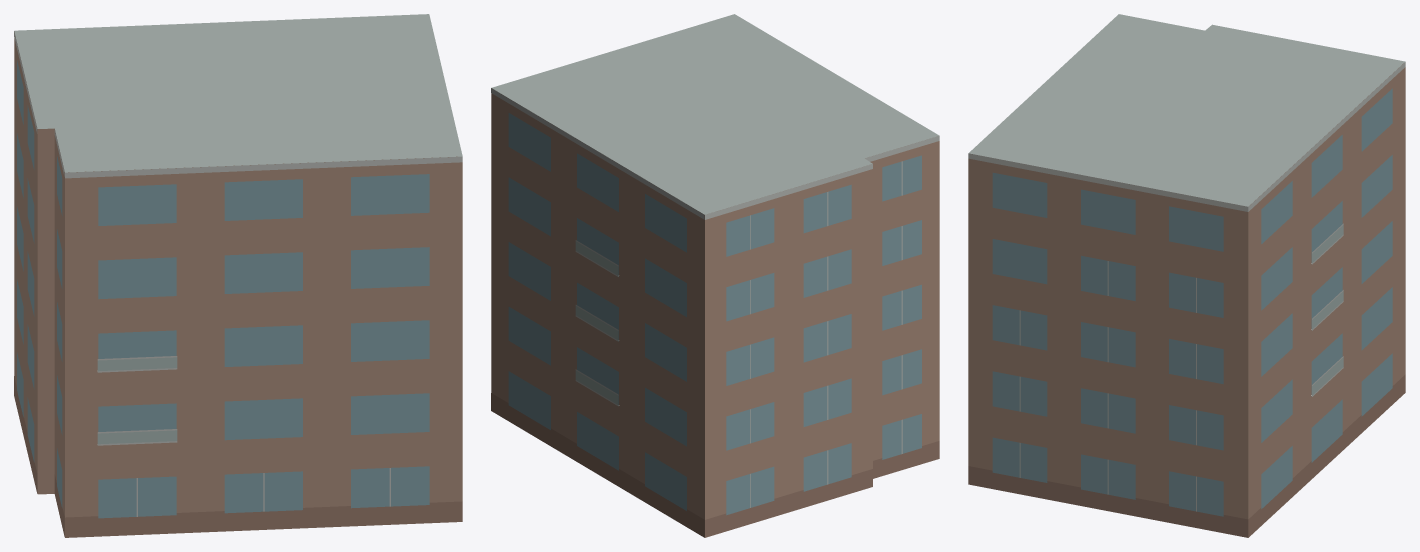
Rendered from survey-upis-33008840.glb.
3 renders of one model, left to right at view 1: azimuth 30°, elevation 25°; view 2: azimuth 150°, elevation 25°; view 3: azimuth 270°, elevation 25°, orthographic. The views are drawn at different scales.
Visible parts, largest first — view 1: survey-upis-33008840.tmp; view 2: survey-upis-33008840.tmp; view 3: survey-upis-33008840.tmp.
Boxes of the visible parts, x1,y1,x2,y2 form: survey-upis-33008840.tmp: [14, 14, 462, 537]; survey-upis-33008840.tmp: [491, 14, 939, 537]; survey-upis-33008840.tmp: [968, 14, 1405, 537].
Bounding box in the file's own units: 19.05 × 15.25 × 18.26.
